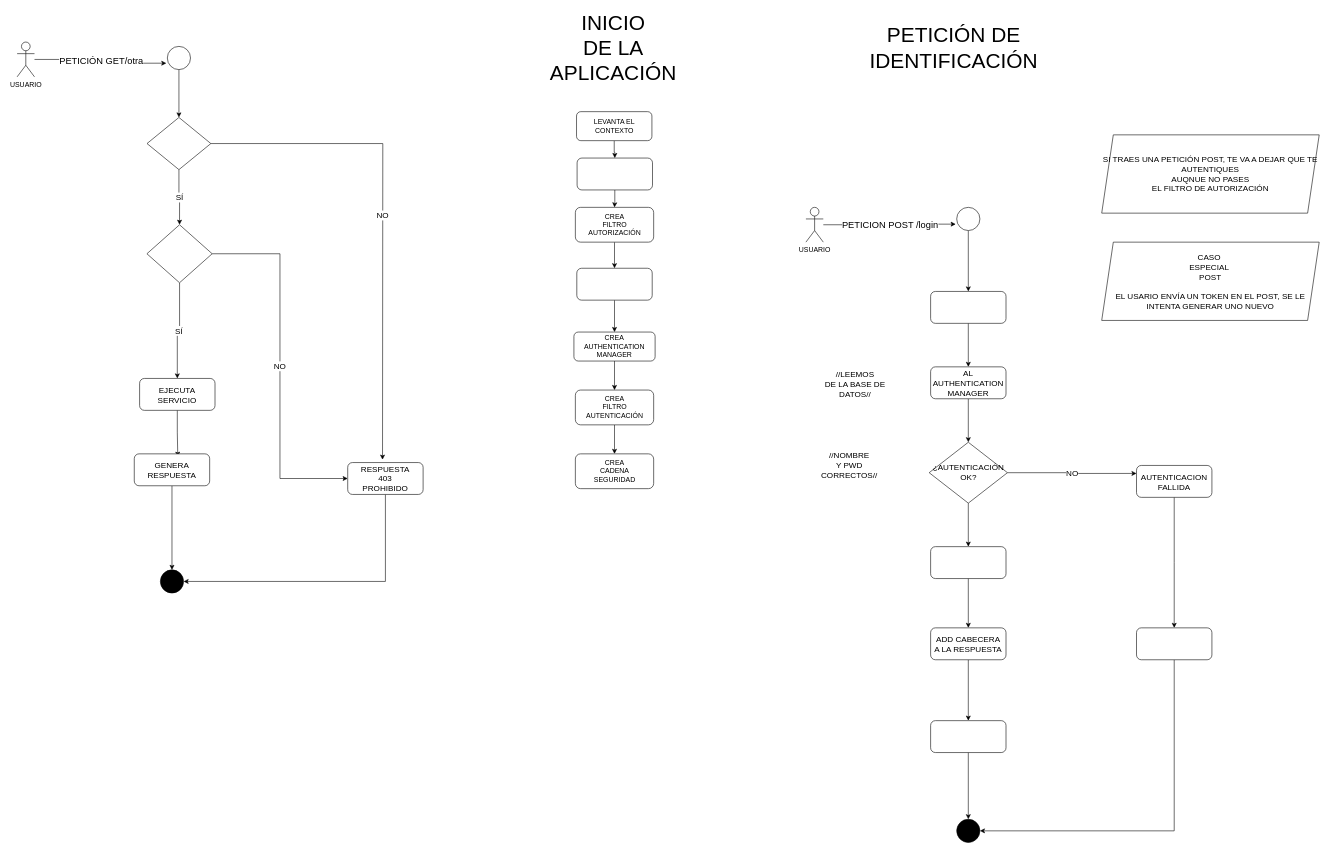
This 1329x853 diagram has some shape labels left out. The shapes that lost their labels are listed below. From the top down, each one's centre as x and y in pixels, then its label:
At point (178, 143): "¿TRAE TOKEN?".
At point (614, 173): "CREAR USERDETAILSERVICE".
At point (179, 253): "¿ES VÁLIDO?".
At point (614, 284): "CREA PWDENCONDER".
At point (968, 307): "OBTENEMOS CREDENCIALES DE LA PETICIÓN".
At point (968, 562): "CREAMOS TOKEN".
At point (1174, 643): "RESPUESTA 401 NO Autorizado".
At point (968, 736): "RESPUESTA 200OK".
